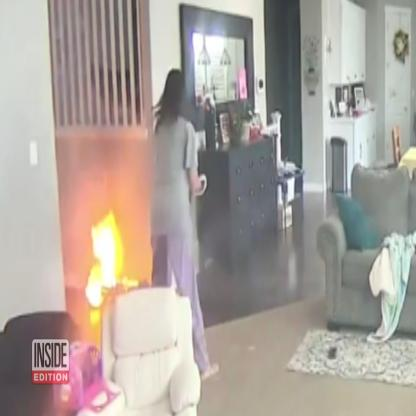fire: (85, 209, 138, 307)
